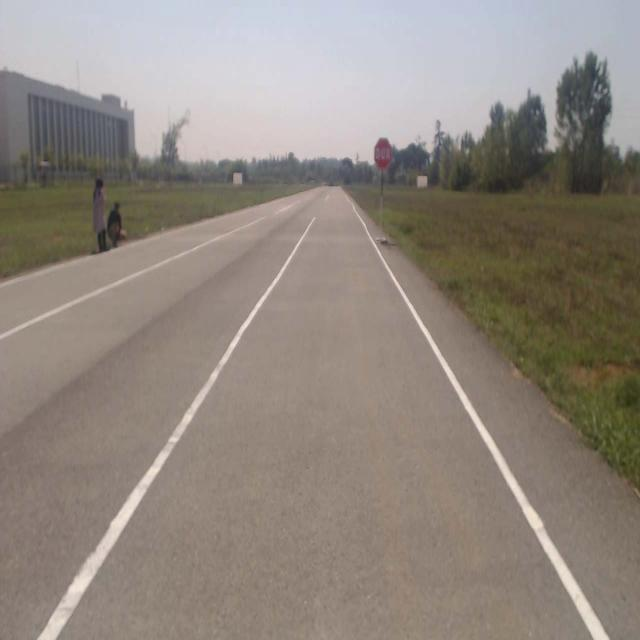dur: (374, 138, 392, 170)
